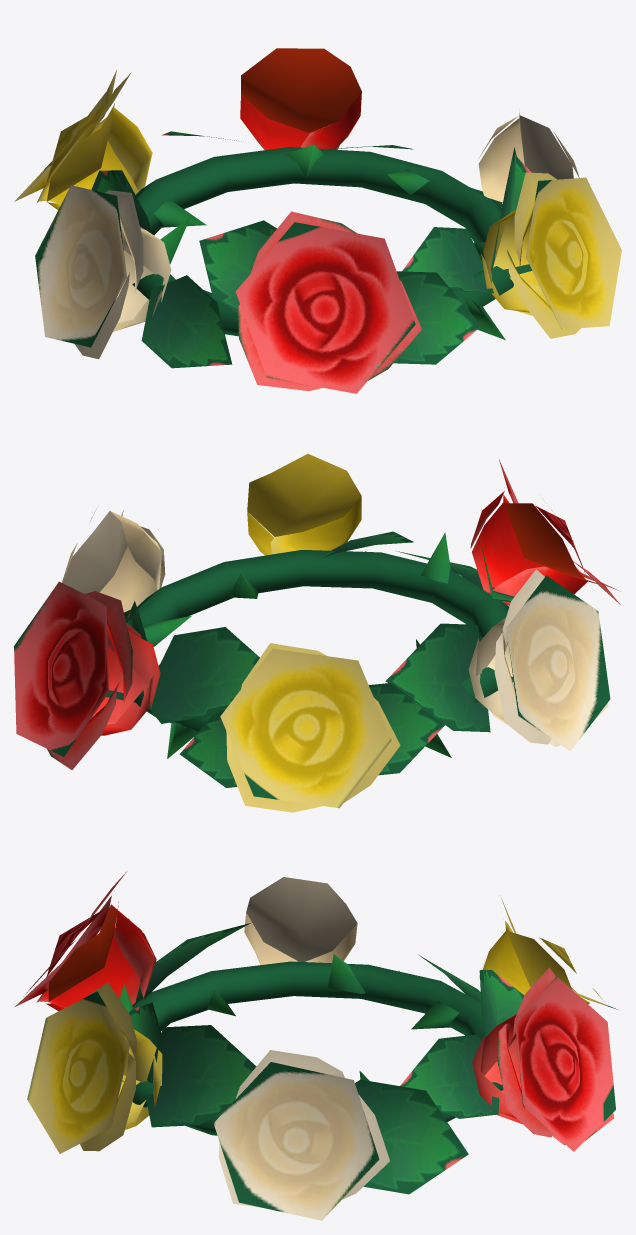
The model's file is CapOrnamentRose1.glb.
3 renders of one model, top to bottom at view 1: azimuth 30°, elevation 25°; view 2: azimuth 150°, elevation 25°; view 3: azimuth 270°, elevation 25°, orthographic. The views are drawn at different scales.
Visible parts, largest first — view 1: Petal46_1__mCap; view 2: Petal46_1__mCap; view 3: Petal46_1__mCap.
Part boxes in pixels (x1,y1,x2,y2): Petal46_1__mCap: (14,48,621,393); Petal46_1__mCap: (14,454,620,812); Petal46_1__mCap: (15,871,617,1220).
Bounding box in the file's own units: 6.05 × 1.96 × 6.28.
1 material, 1 textured.
